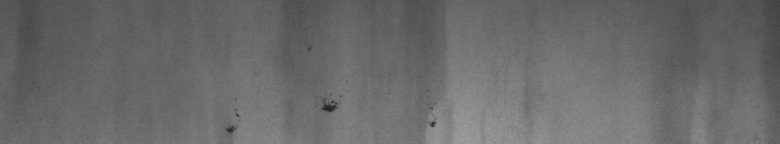fi: (307, 46, 344, 120)
